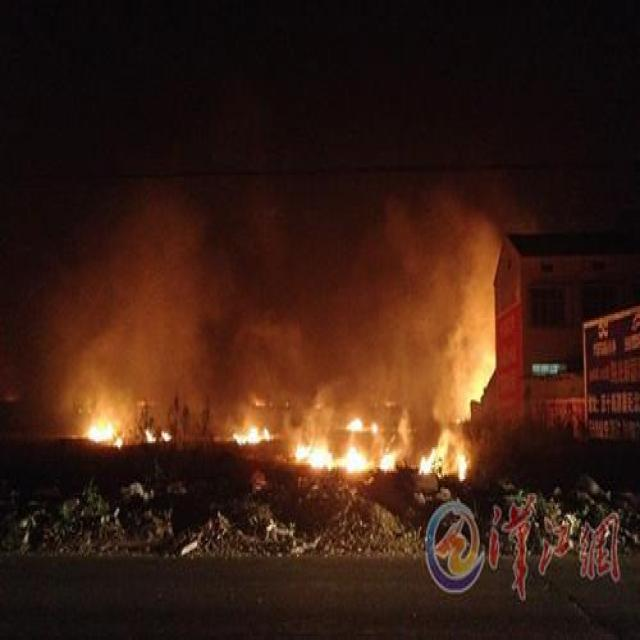fire: (234, 399, 479, 484), (69, 373, 175, 448)
